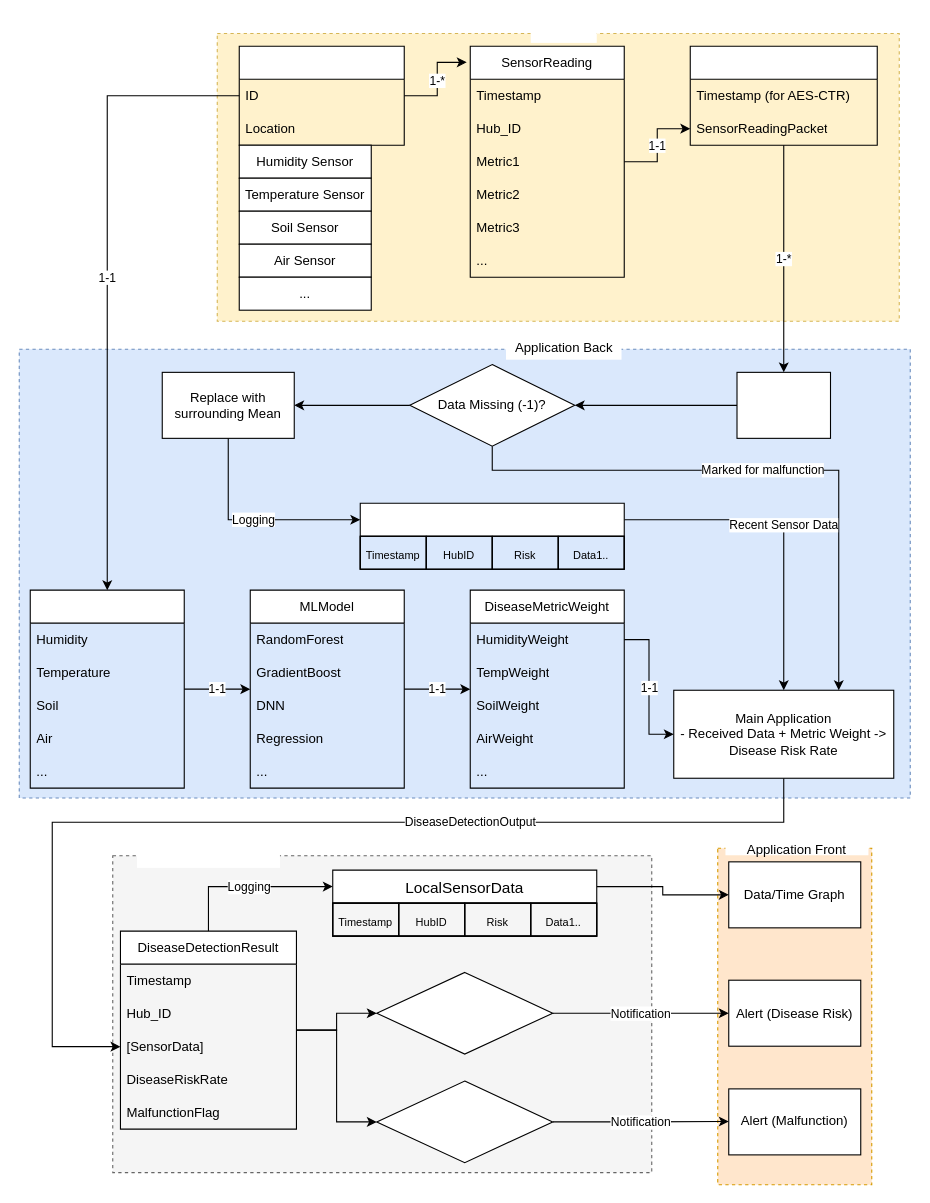
Image size: 930x1203. Some labels were removed from this diagram. Each missing label, with the box of its shape:
Central Data Receiver: (736, 371, 831, 438)
Hardware: (530, 19, 596, 42)
Malfunction flagged?: (376, 1080, 553, 1163)
MLLearningMetric: (29, 589, 184, 788)
Networking: (136, 844, 279, 867)
RadioPacket: (689, 45, 877, 145)
Risk > Threshold?: (376, 971, 553, 1054)
SensorDataStorage: (359, 502, 624, 569)
SensorHub: (238, 45, 404, 145)
